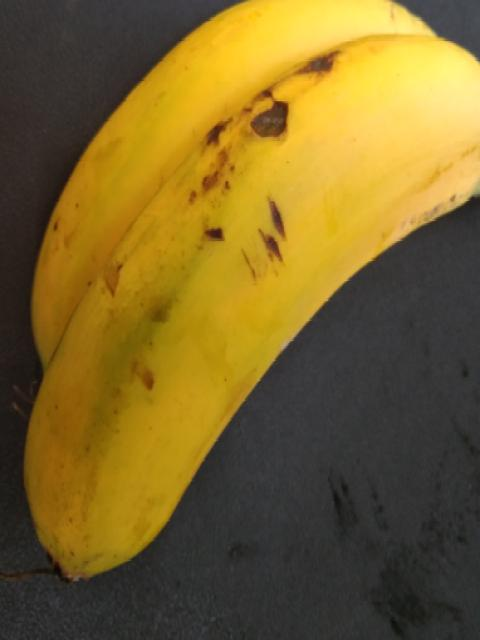ripe: (17, 41, 467, 588)
